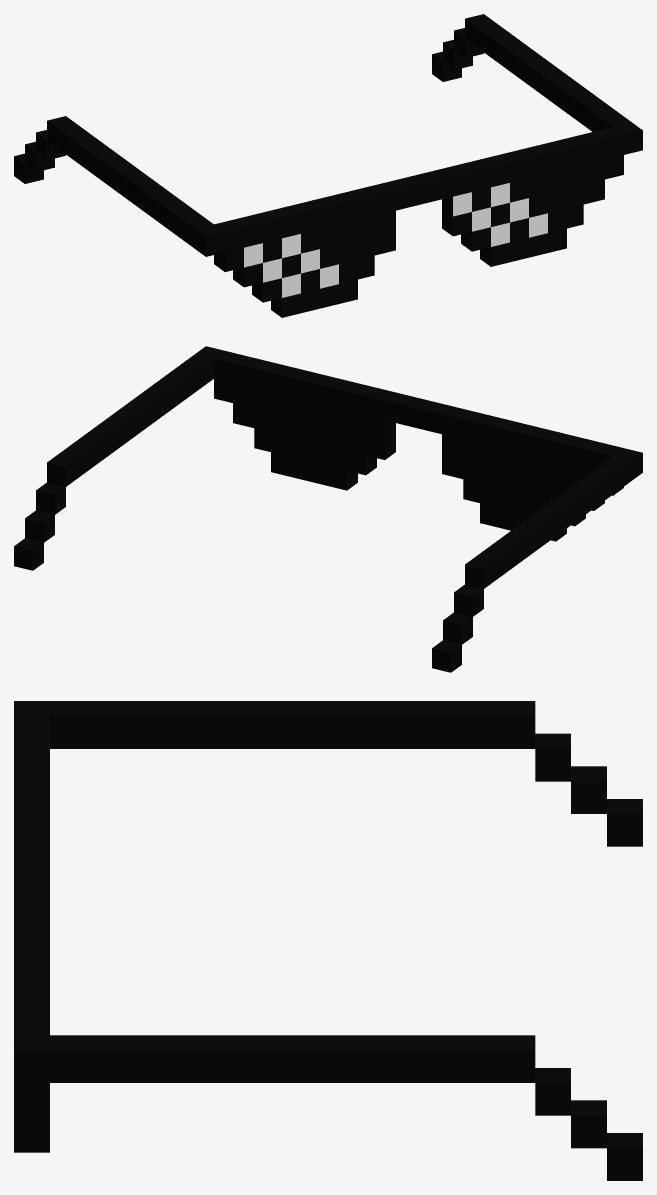
File: pixel_sunglasses.glb
3 renders of one model, top to bottom at view 1: azimuth 30°, elevation 25°; view 2: azimuth 150°, elevation 25°; view 3: azimuth 270°, elevation 25°, orthographic. The views are drawn at different scales.
Visible parts, largest first — view 1: pixel_sunglasses; view 2: pixel_sunglasses; view 3: pixel_sunglasses.
Boxes of the visible parts, bbox=[...] form: pixel_sunglasses: bbox=[14, 14, 642, 317]; pixel_sunglasses: bbox=[14, 346, 642, 672]; pixel_sunglasses: bbox=[14, 701, 642, 1180].
Size of the model in its own units: 0.559 by 0.1215 by 0.4253.
1 material, 1 textured.
